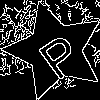P: (30, 25, 86, 82)
